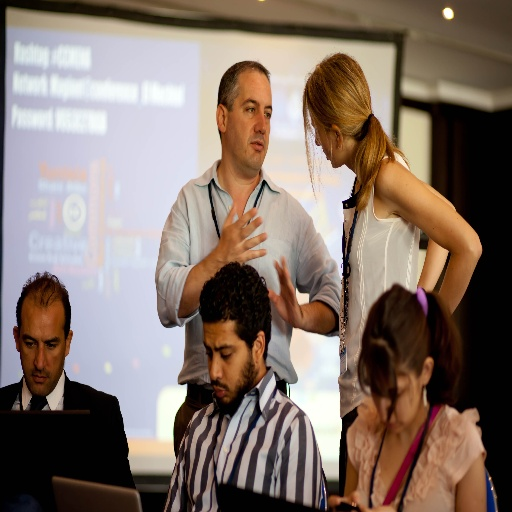hand: (266, 254, 304, 327), (211, 223, 273, 267), (327, 490, 360, 511), (359, 503, 395, 511)
